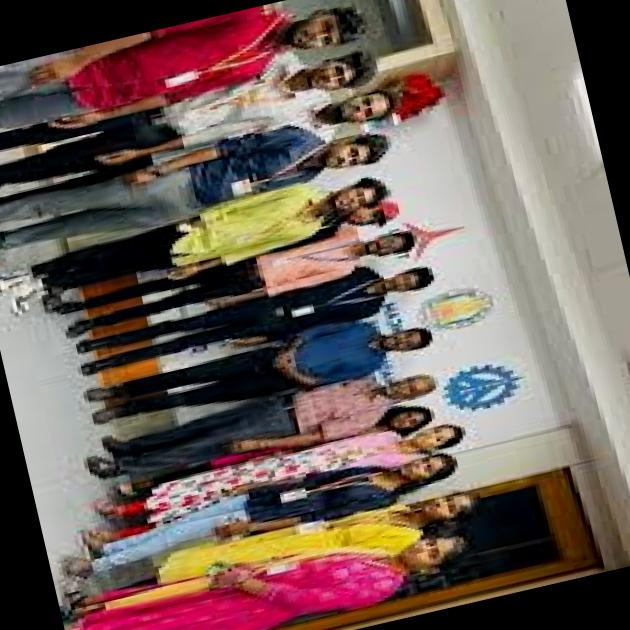there is a person: (60, 466, 496, 630), (0, 96, 395, 248), (98, 282, 456, 430), (59, 205, 450, 338), (18, 28, 341, 179), (0, 0, 307, 148), (78, 170, 366, 281), (164, 400, 425, 514), (154, 352, 392, 471)
